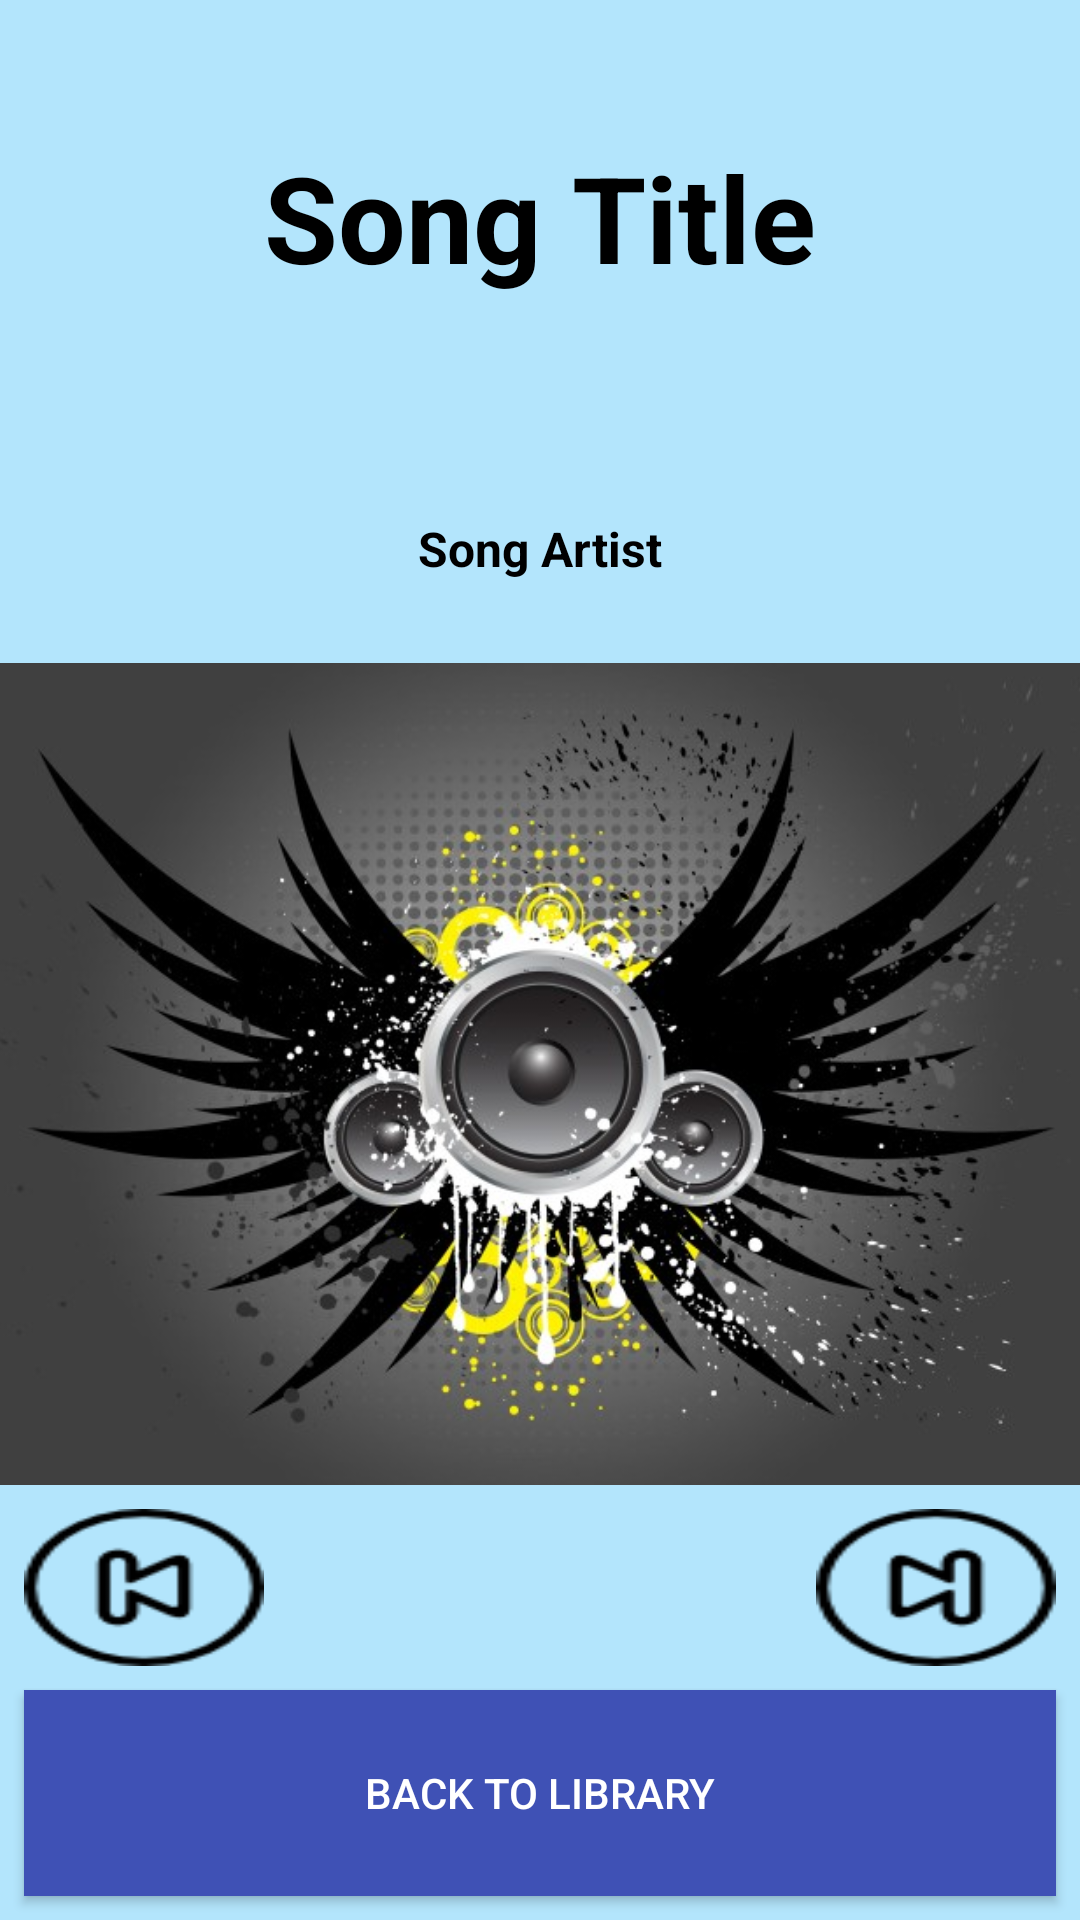

Locate icon controls on the screen. Image size 1080px x 1920px, boxes as (x1, y1, x2, y2).
next: (816, 1509, 1056, 1666)
